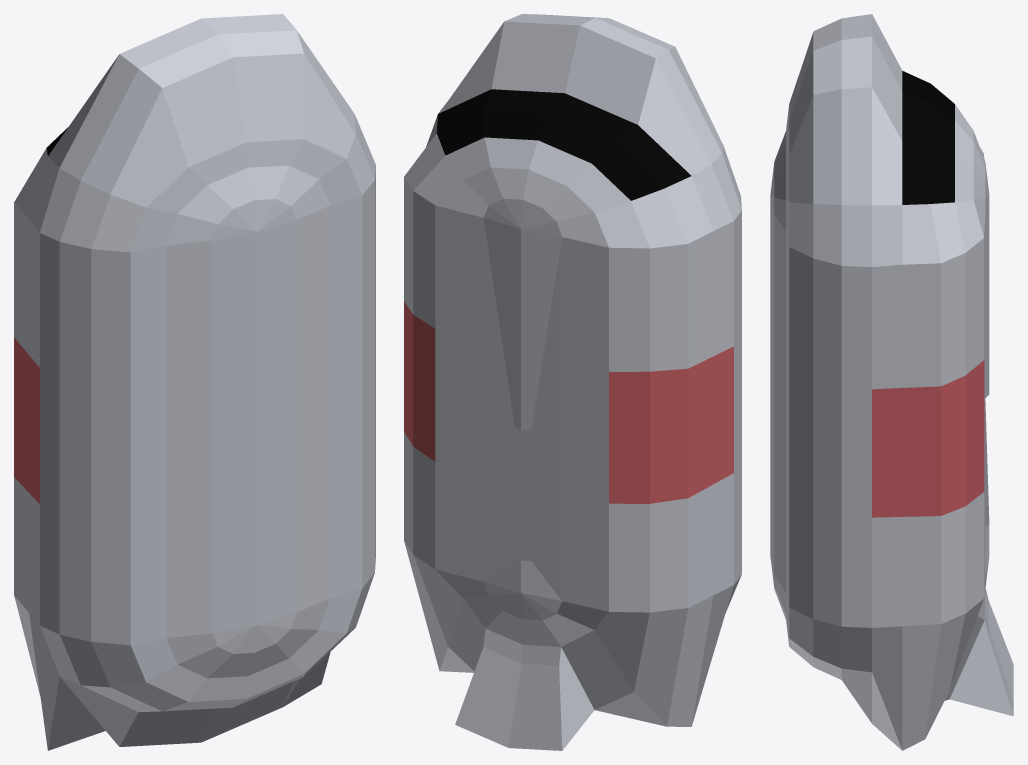
Rendered from simmodel.fbx.
The picture shows the model from 3 angles, left to right: view 1: azimuth 30°, elevation 25°; view 2: azimuth 150°, elevation 25°; view 3: azimuth 270°, elevation 25°; orthographic projection. The views are drawn at different scales.
Parts seen in each view (by area): view 1: Sphere; view 2: Sphere; view 3: Sphere.
Part boxes in pixels (x1,y1,x2,y2): Sphere: (14, 14, 375, 750); Sphere: (404, 14, 741, 750); Sphere: (770, 14, 1013, 750).
Bounding box in the file's own units: 294 × 626 × 208.
